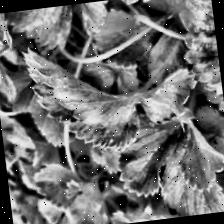Powdery Mildew Leaf: (20, 27, 204, 162), (176, 0, 224, 124), (0, 38, 18, 106)
